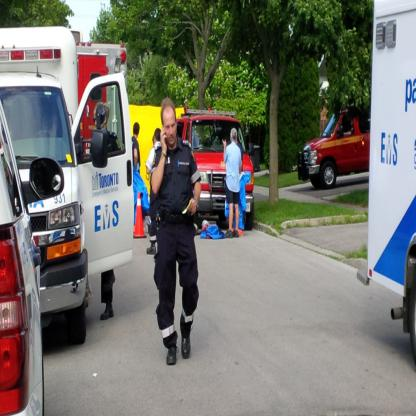Truck: (0, 25, 127, 340), (357, 1, 415, 363), (0, 98, 44, 415), (176, 110, 254, 228), (298, 106, 371, 188)
